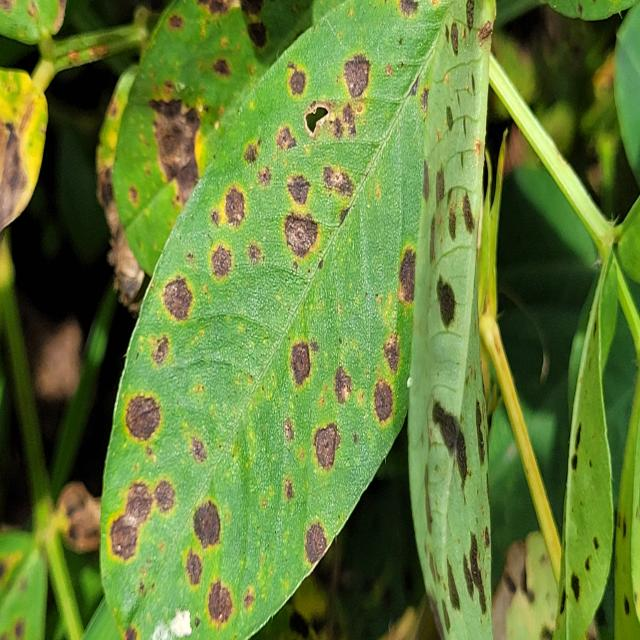Ground nut_tikka leaf spot: (101, 3, 466, 640)
